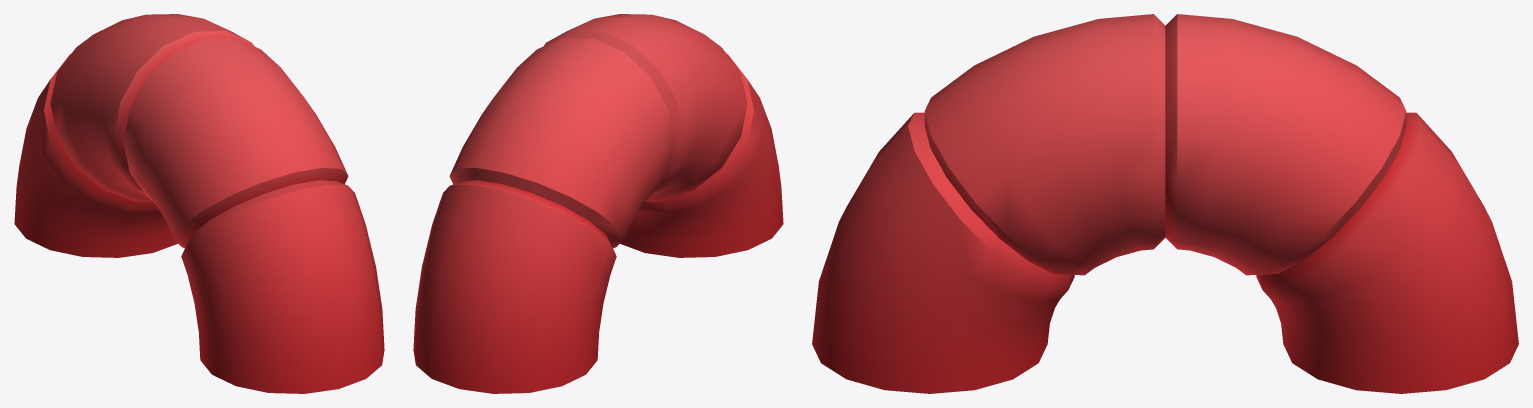
The model's file is pipe_180_B_red.glb.
3 views of the same model, side by side, from view 1: azimuth 30°, elevation 25°; view 2: azimuth 150°, elevation 25°; view 3: azimuth 270°, elevation 25° (orthographic). The views are drawn at different scales.
Parts seen in each view (by area): view 1: pipe_180_B_red; view 2: pipe_180_B_red; view 3: pipe_180_B_red.
Boxes of the visible parts, x1,y1,x2,y2 form: pipe_180_B_red: [14, 14, 384, 393]; pipe_180_B_red: [413, 14, 783, 393]; pipe_180_B_red: [812, 14, 1518, 393].
Size of the model in its own units: 2 by 2.99 by 6.
Materials: 1 (1 with a texture image).
